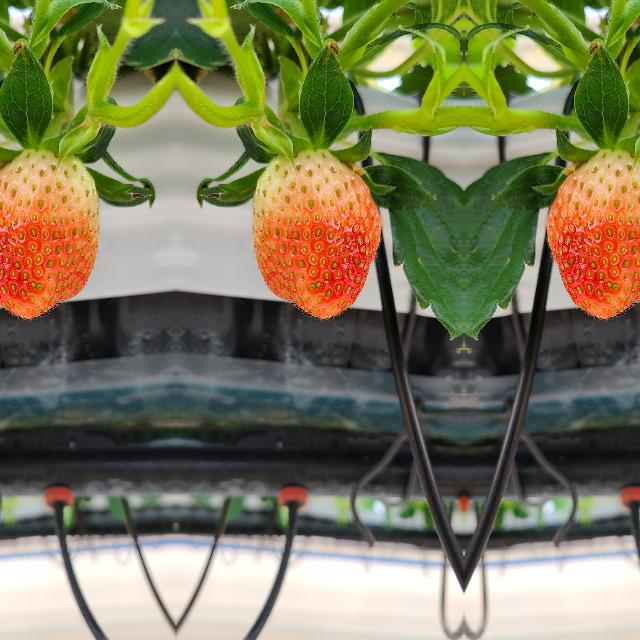Health_75: (250, 149, 382, 321), (0, 149, 99, 321), (544, 149, 640, 321)
